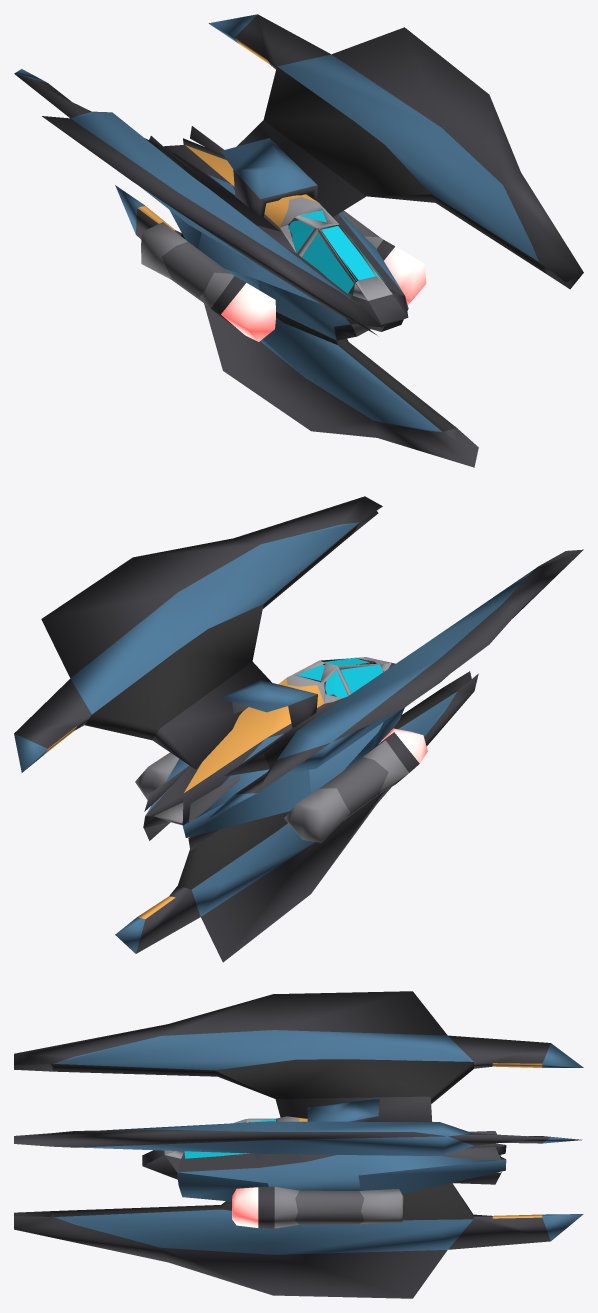
Rendered from EnemyShip.glb.
The picture shows the model from 3 angles, top to bottom: view 1: azimuth 30°, elevation 25°; view 2: azimuth 150°, elevation 25°; view 3: azimuth 270°, elevation 25°; orthographic projection. The views are drawn at different scales.
Visible parts, largest first — view 1: EnemyShip; view 2: EnemyShip; view 3: EnemyShip.
Part boxes in pixels (<box>): EnemyShip: <box>14,14,583,467</box>; EnemyShip: <box>14,496,583,962</box>; EnemyShip: <box>14,991,583,1298</box>.
Size of what is drawn, in the model's own units: 4.57 by 3.6 by 7.83.
2 materials, 1 textured.
